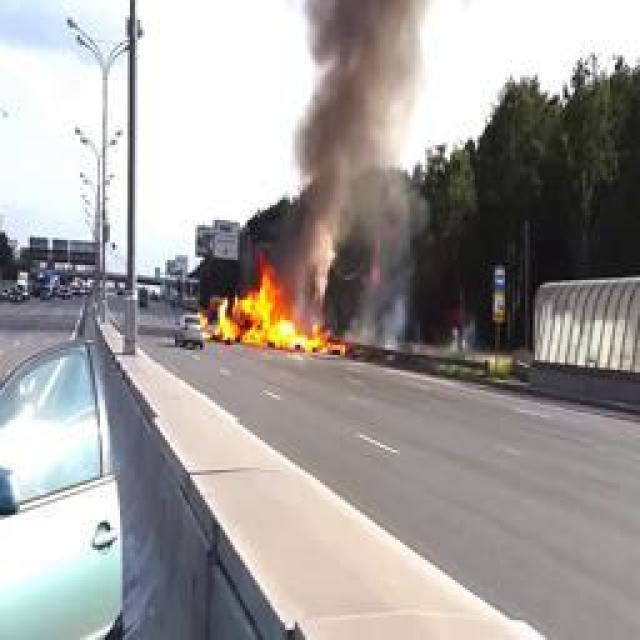Fire: (216, 255, 344, 358)
